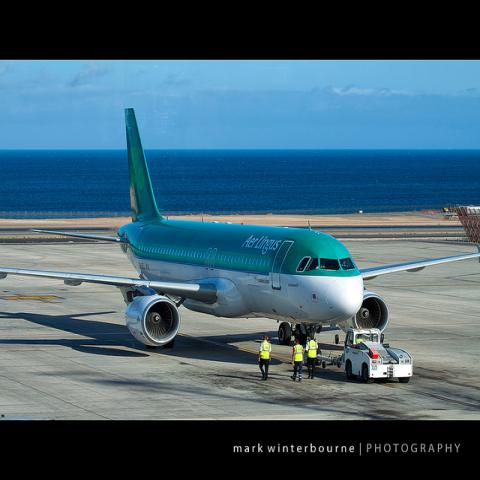truck: (343, 327, 413, 384)
